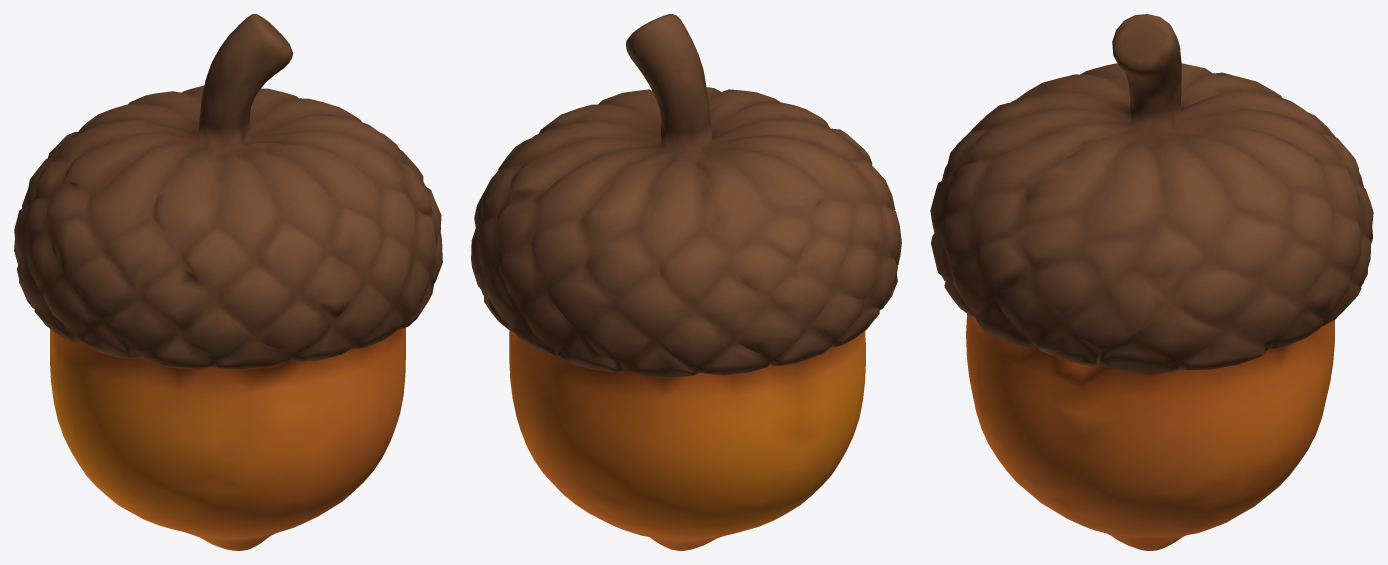
The model's file is acorn_v3.glb.
The picture shows the model from 3 angles, left to right: view 1: azimuth 30°, elevation 25°; view 2: azimuth 150°, elevation 25°; view 3: azimuth 270°, elevation 25°; orthographic projection. The views are drawn at different scales.
Visible parts, largest first — view 1: acorn_v3; view 2: acorn_v3; view 3: acorn_v3.
Part boxes in pixels (x1,y1,x2,y2): acorn_v3: (14, 14, 442, 550); acorn_v3: (471, 14, 901, 550); acorn_v3: (930, 14, 1373, 550).
Size of the model in its own units: 0.2626 by 0.35 by 0.2598.
1 material, 1 textured.
